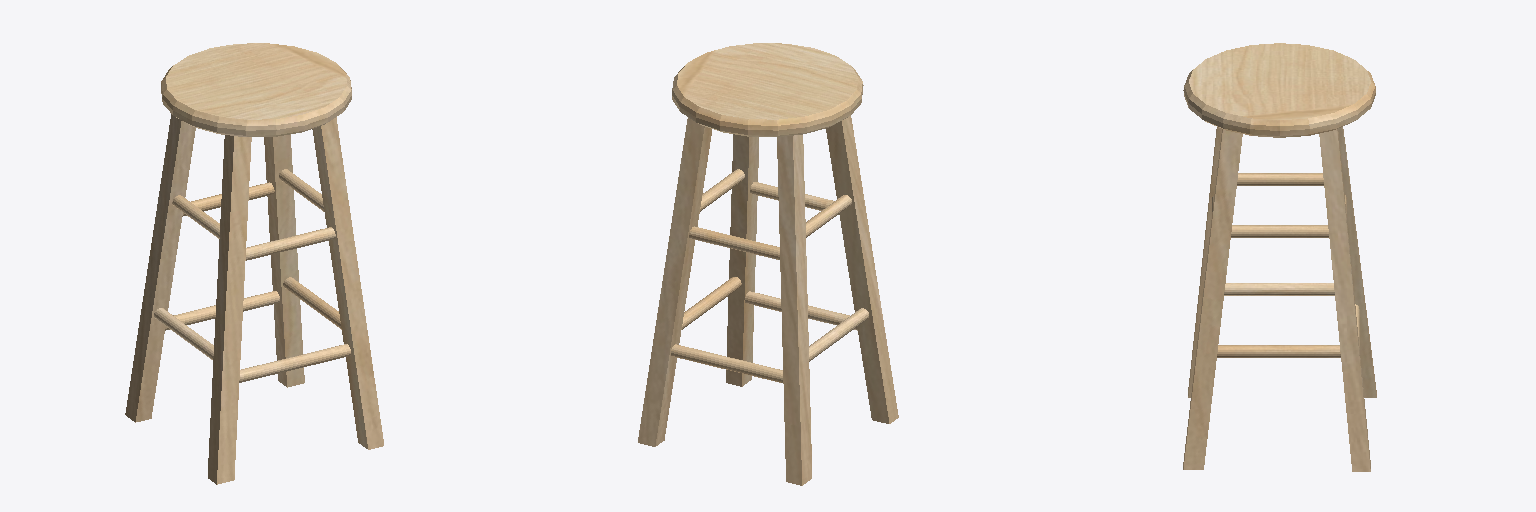
The picture shows the model from 3 angles: view 1: azimuth 30°, elevation 25°; view 2: azimuth 150°, elevation 25°; view 3: azimuth 270°, elevation 25°; orthographic projection.
Visible parts, largest first — view 1: pasted__pCylinder10 group; view 2: pasted__pCylinder10 group; view 3: pasted__pCylinder10 group.
Part boxes in pixels (bbox=[...]): pasted__pCylinder10 group: bbox=[125, 43, 383, 484]; pasted__pCylinder10 group: bbox=[638, 43, 898, 485]; pasted__pCylinder10 group: bbox=[1183, 43, 1376, 471].
Bounding box in the file's own units: 49.56 × 97.15 × 48.73.
Materials: 1 (1 with a texture image).